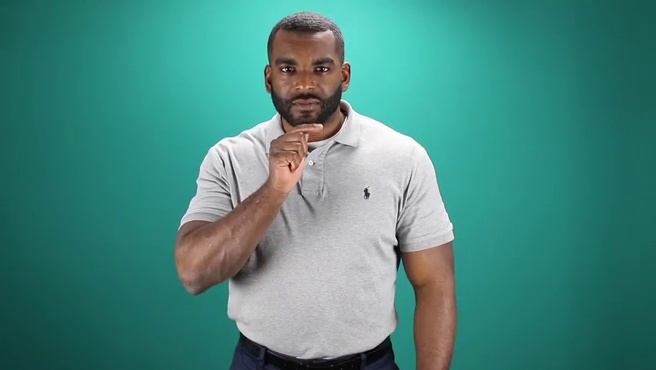who: (205, 58, 356, 187)
